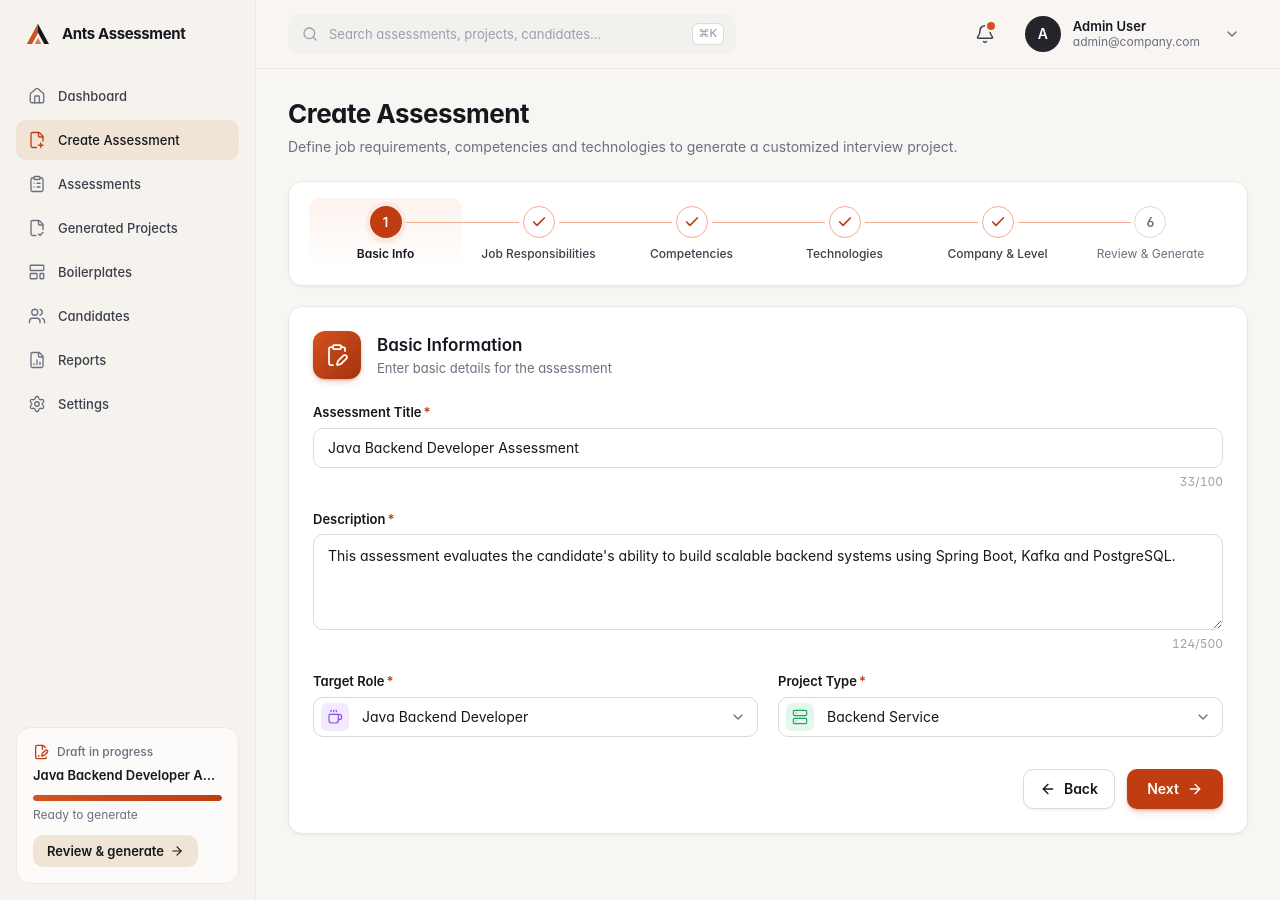
it: Basic Information step › blocks Next and focuses the first invalid field
Clear the field labelled "Assessment Title*" at (768, 448), box [313,428,1223,468]
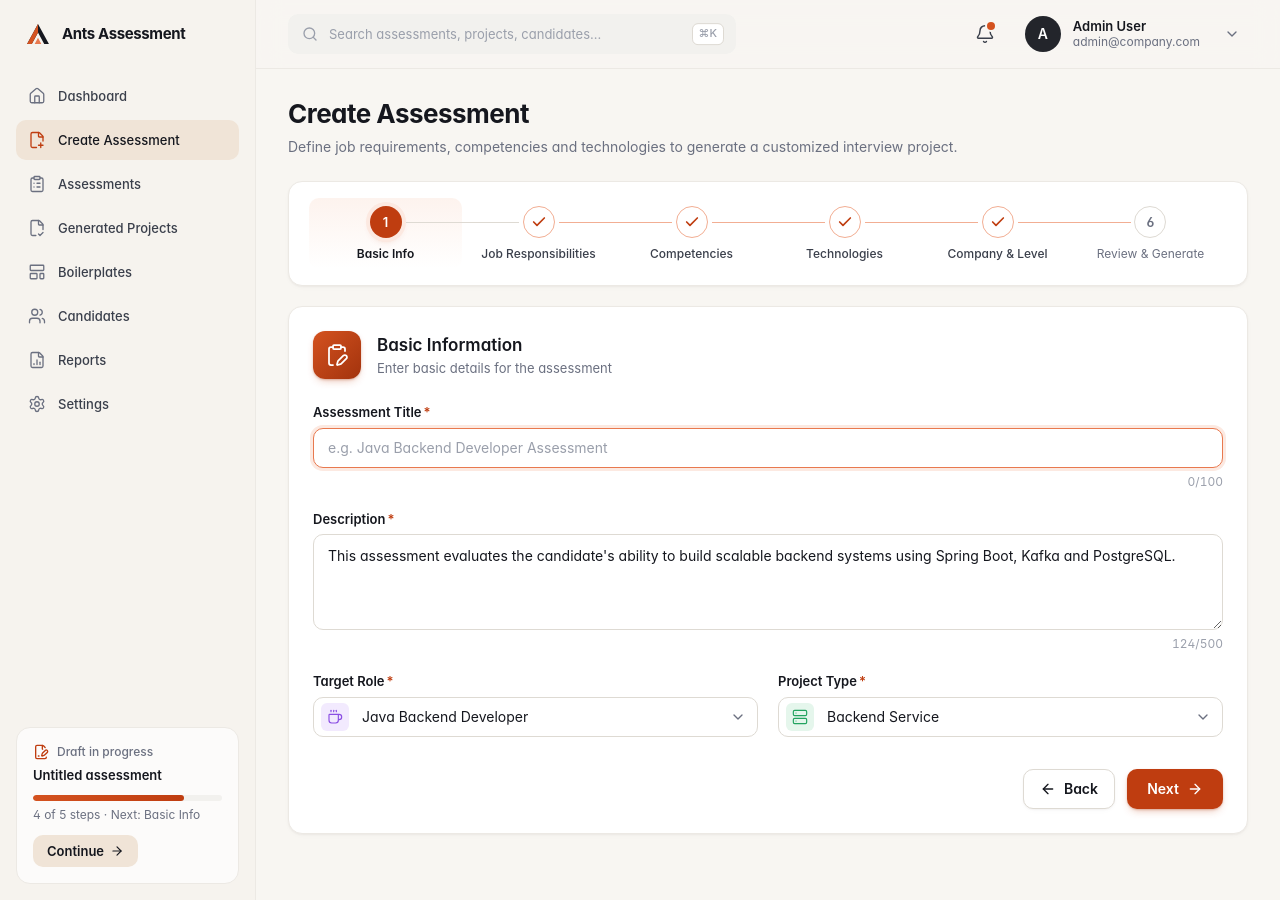
Click the button "Next" at (1175, 789), box [1127,769,1223,809]
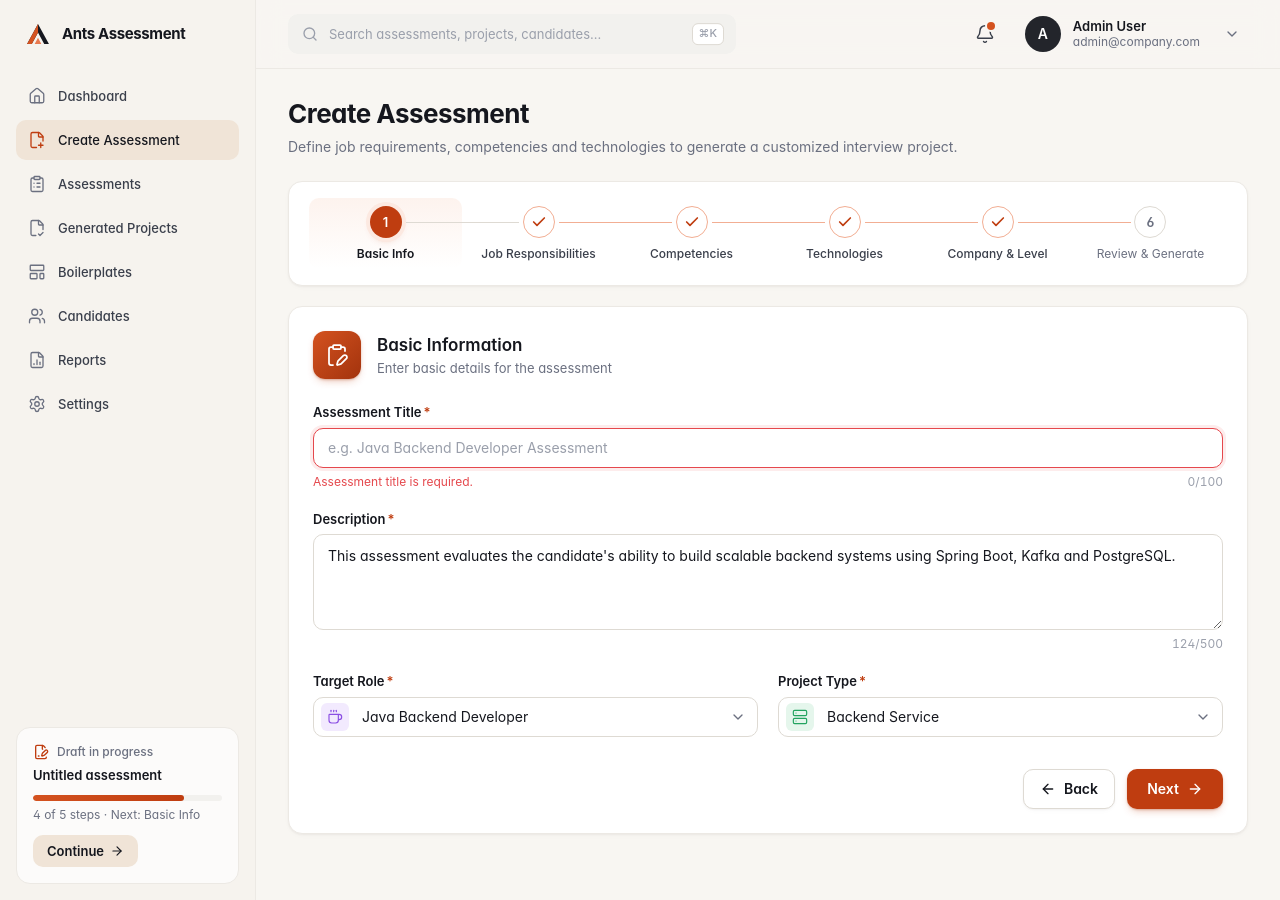
Expected: the message reads "Assessment title is required.", [313,474,473,489]
